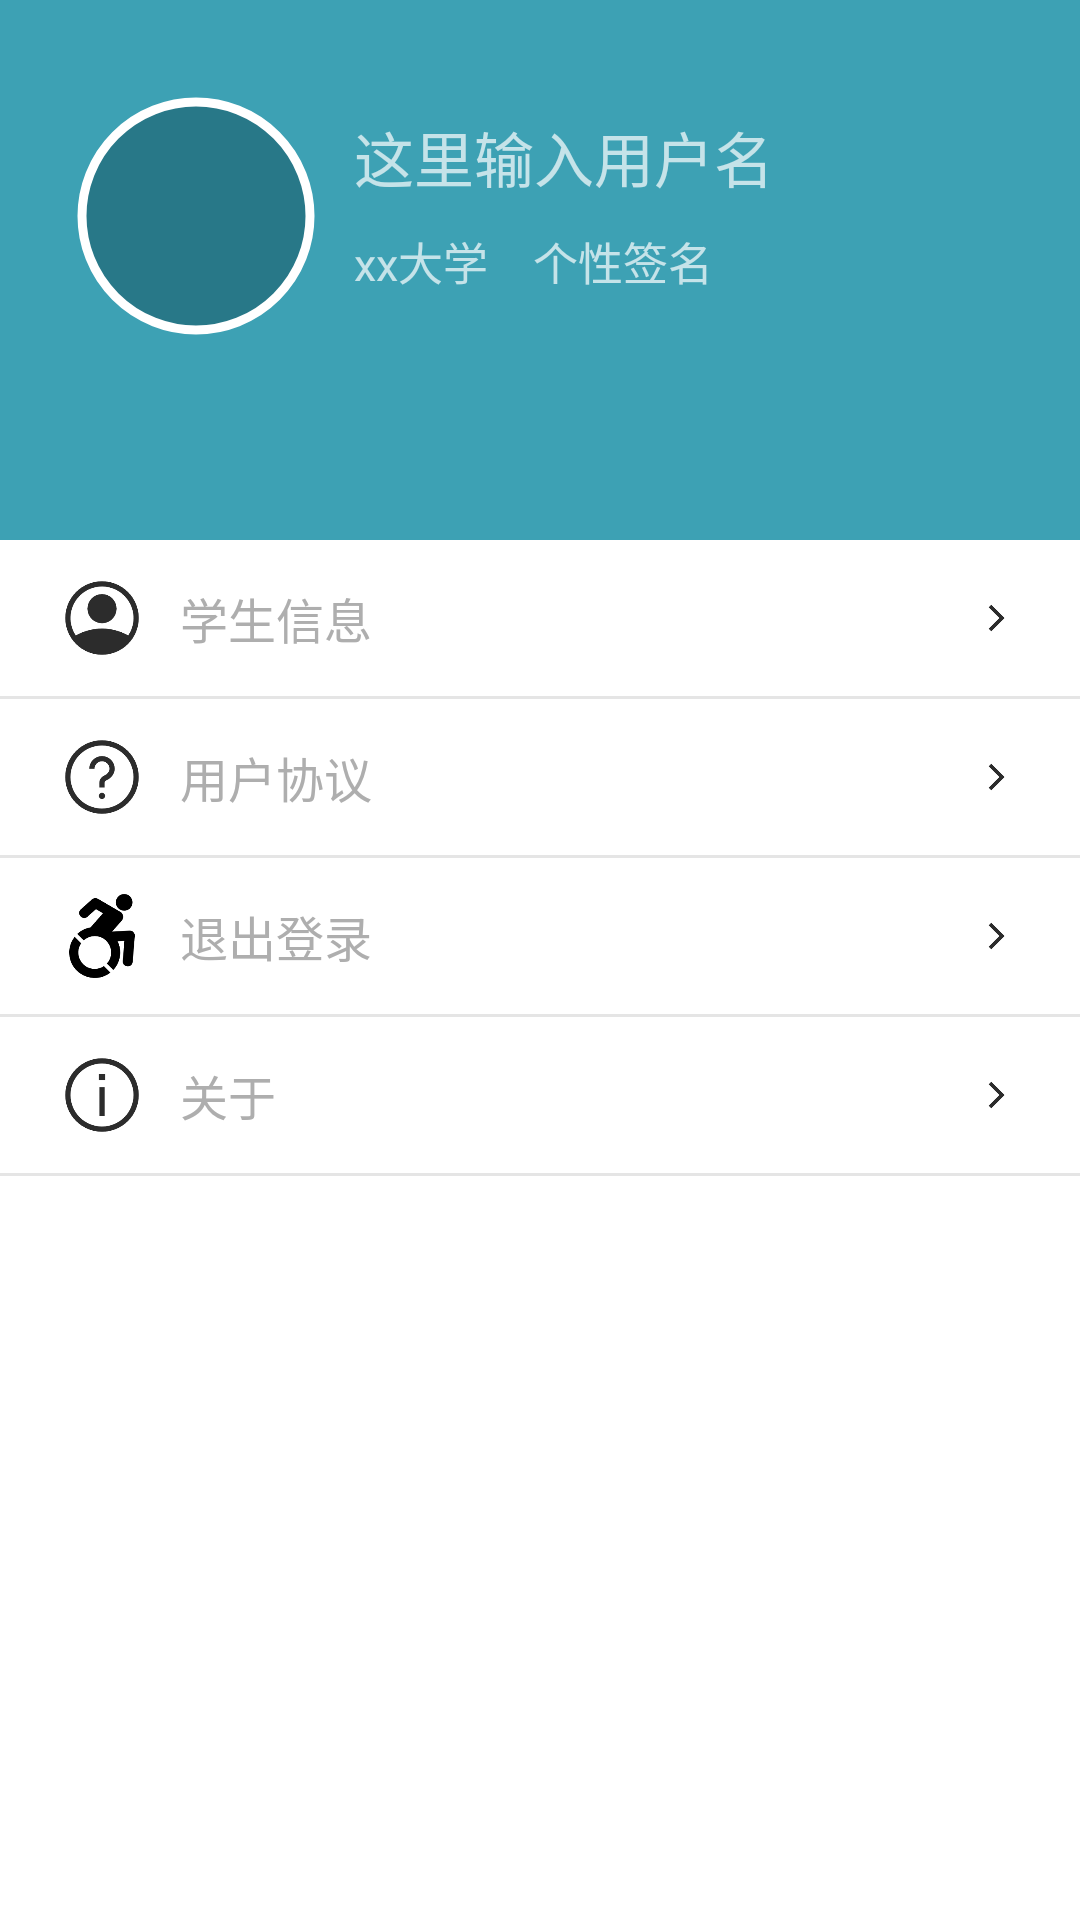

Locate icon controls on the screen. Image size 1080px x 1920px, boxes as (x1, y1, x2, y2).
accessible: (69, 894, 135, 978)
chevron right: (989, 605, 1004, 631), (989, 764, 1004, 790), (989, 923, 1004, 949), (989, 1082, 1004, 1108)
help circle: (65, 740, 139, 814)
info circle: (65, 1058, 139, 1132)
user circle: (65, 581, 139, 655)
